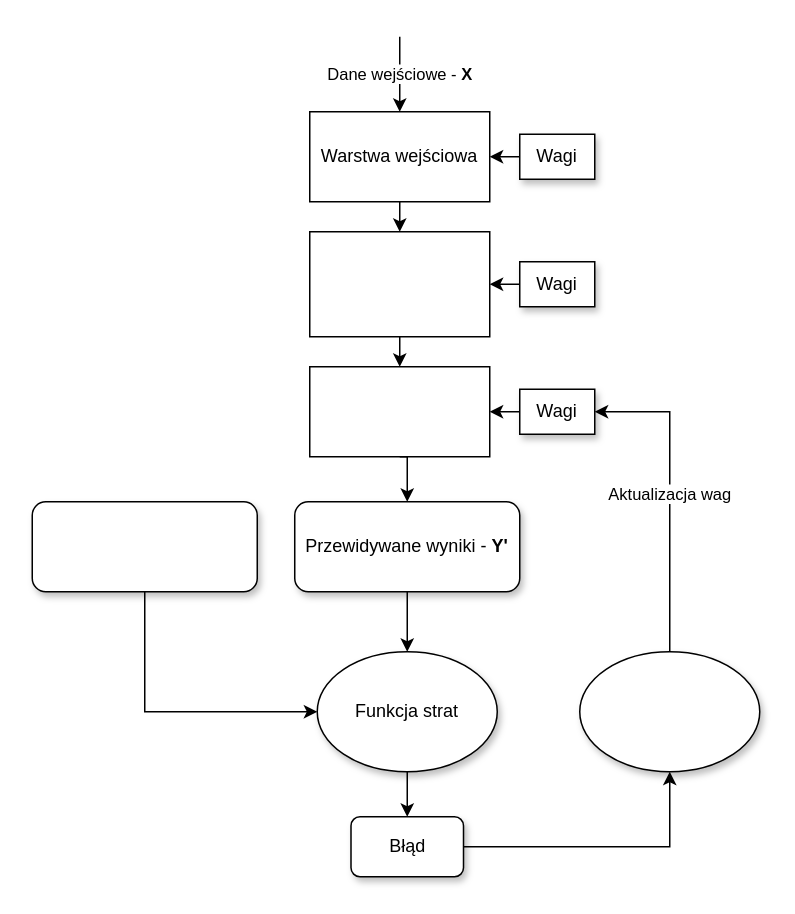
The diagram is 795 pixels wide and 914 high, and some of its shapes have lost their labels. The centre of each missing label's shape, as x and y in pixels:
"Optymalizator" goes at [670,713].
"Prawdziwe wyniki - Y" goes at [145,548].
"Warstwa wyjściowa" goes at [399,411].
"Wiele warstw ukrytych" goes at [399,283].
